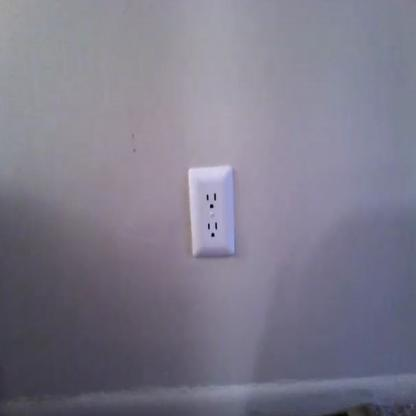OUTLET: (187, 166, 236, 258)
